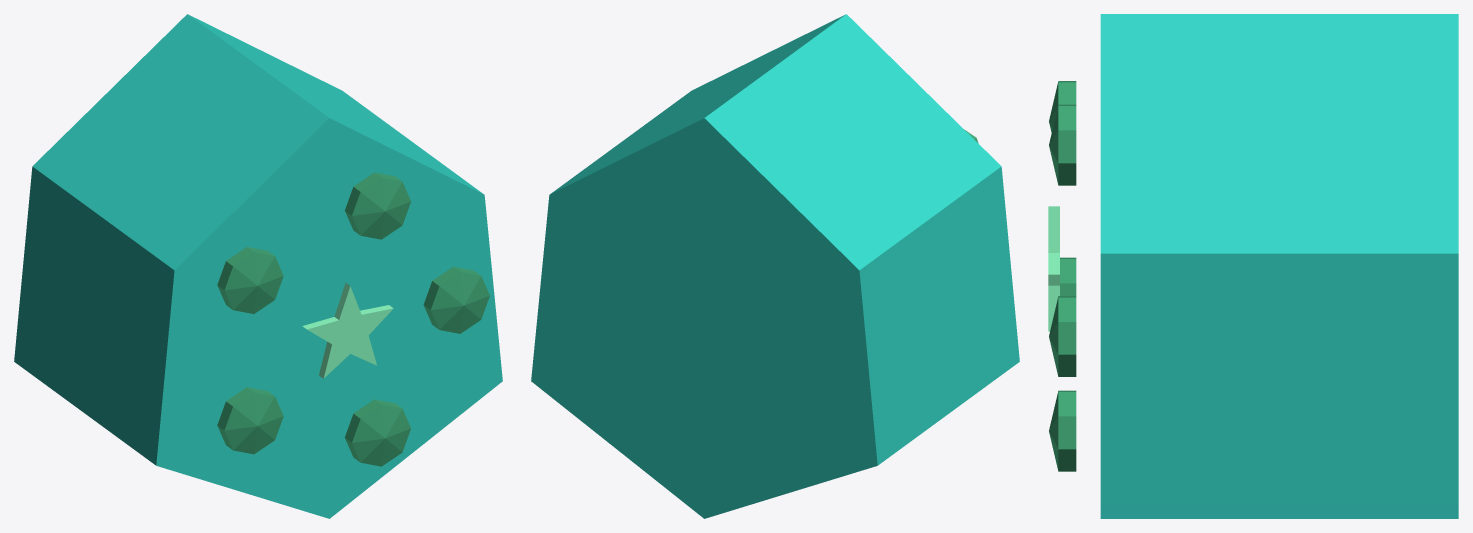
The model's file is five_element_prism_pearl.obj.
The picture shows the model from 3 angles, left to right: view 1: azimuth 30°, elevation 25°; view 2: azimuth 150°, elevation 25°; view 3: azimuth 270°, elevation 25°; orthographic projection. The views are drawn at different scales.
Parts seen in each view (by area): view 1: five_element_prism, five_element_prism_edge, element_2, element_4, element_1, element_3, element_0, prism_glint, prism_glint_edge; view 2: five_element_prism, five_element_prism_edge; view 3: five_element_prism_edge, element_1, element_4, element_0, prism_glint_edge, element_2, element_3.
Boxes of the visible parts, <box> form: five_element_prism: <box>156,118,502,518</box>; five_element_prism_edge: <box>14,14,482,465</box>; element_2: <box>217,247,283,313</box>; element_4: <box>344,399,410,466</box>; element_1: <box>344,172,410,239</box>; element_3: <box>217,387,283,454</box>; element_0: <box>423,266,489,333</box>; prism_glint: <box>307,286,393,378</box>; prism_glint_edge: <box>302,283,393,378</box>; five_element_prism: <box>531,118,877,518</box>; five_element_prism_edge: <box>551,14,1019,465</box>; five_element_prism_edge: <box>1100,14,1458,518</box>; element_1: <box>1049,104,1076,185</box>; element_4: <box>1049,390,1076,471</box>; element_0: <box>1049,296,1076,376</box>; prism_glint_edge: <box>1048,206,1059,331</box>; element_2: <box>1049,81,1076,132</box>; element_3: <box>1060,257,1076,295</box>.
Size of the model in its own units: 0.76 by 0.84 by 0.619.
